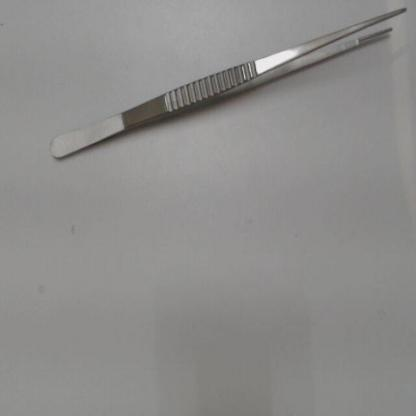DeBakey Dissector: (22, 2, 413, 213)
